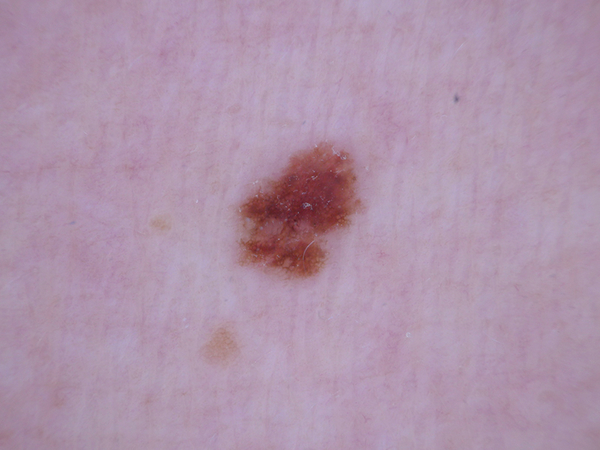Detected Lesion: (229, 135, 367, 286)
